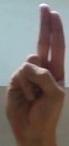U: (4, 0, 69, 139)
